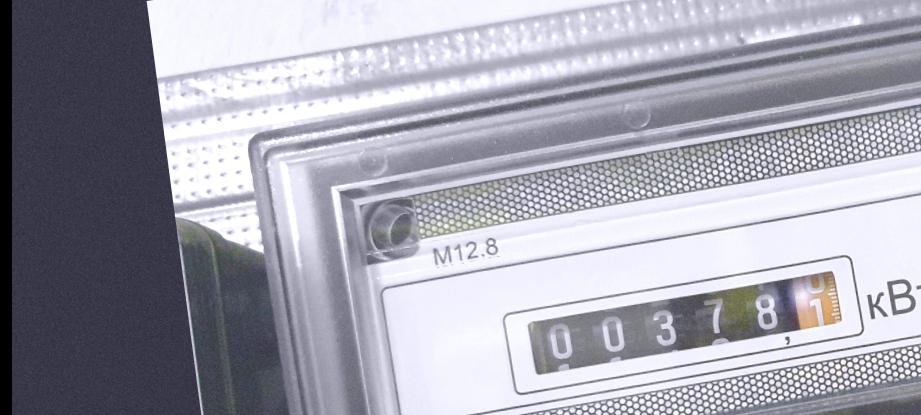0: (546, 318, 579, 361), (599, 312, 629, 354), (804, 270, 828, 295)
1: (806, 294, 830, 328)
3: (650, 305, 681, 349)
7: (701, 294, 730, 336)
8: (752, 289, 781, 332)
screen: (504, 249, 865, 387)
